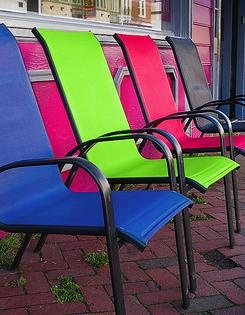obstacle: (0, 24, 191, 314)
